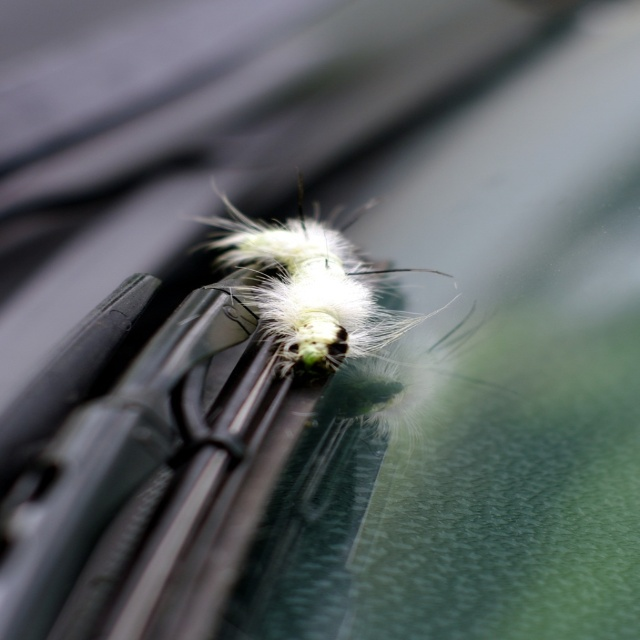Caterpillar: (183, 168, 467, 380)
